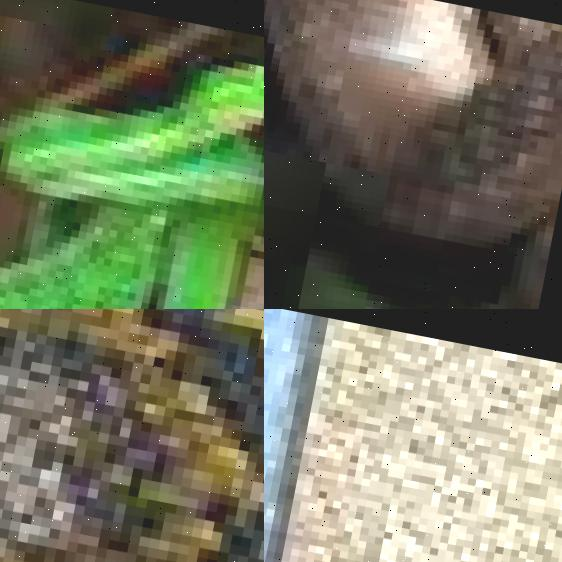snake: (0, 0, 264, 309)
